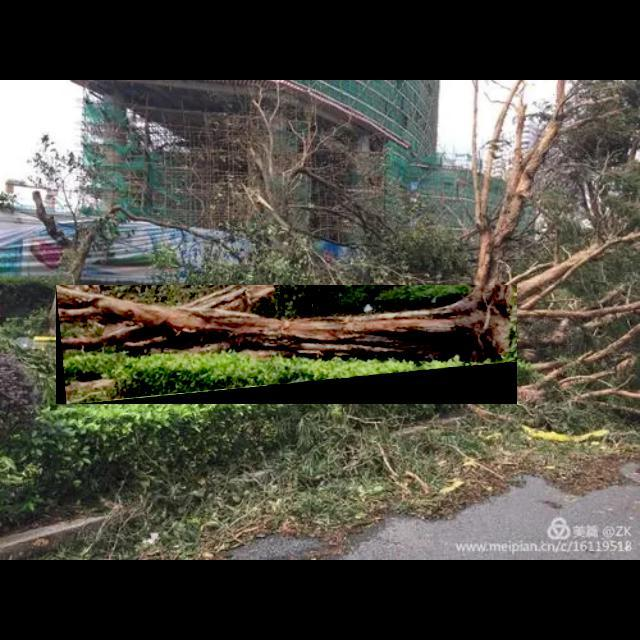fallen_tree: (56, 285, 518, 405)
